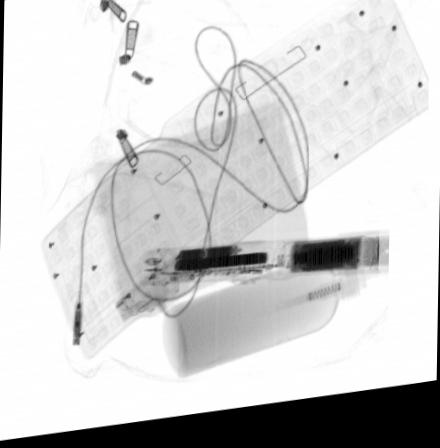Baton: (133, 239, 393, 292)
